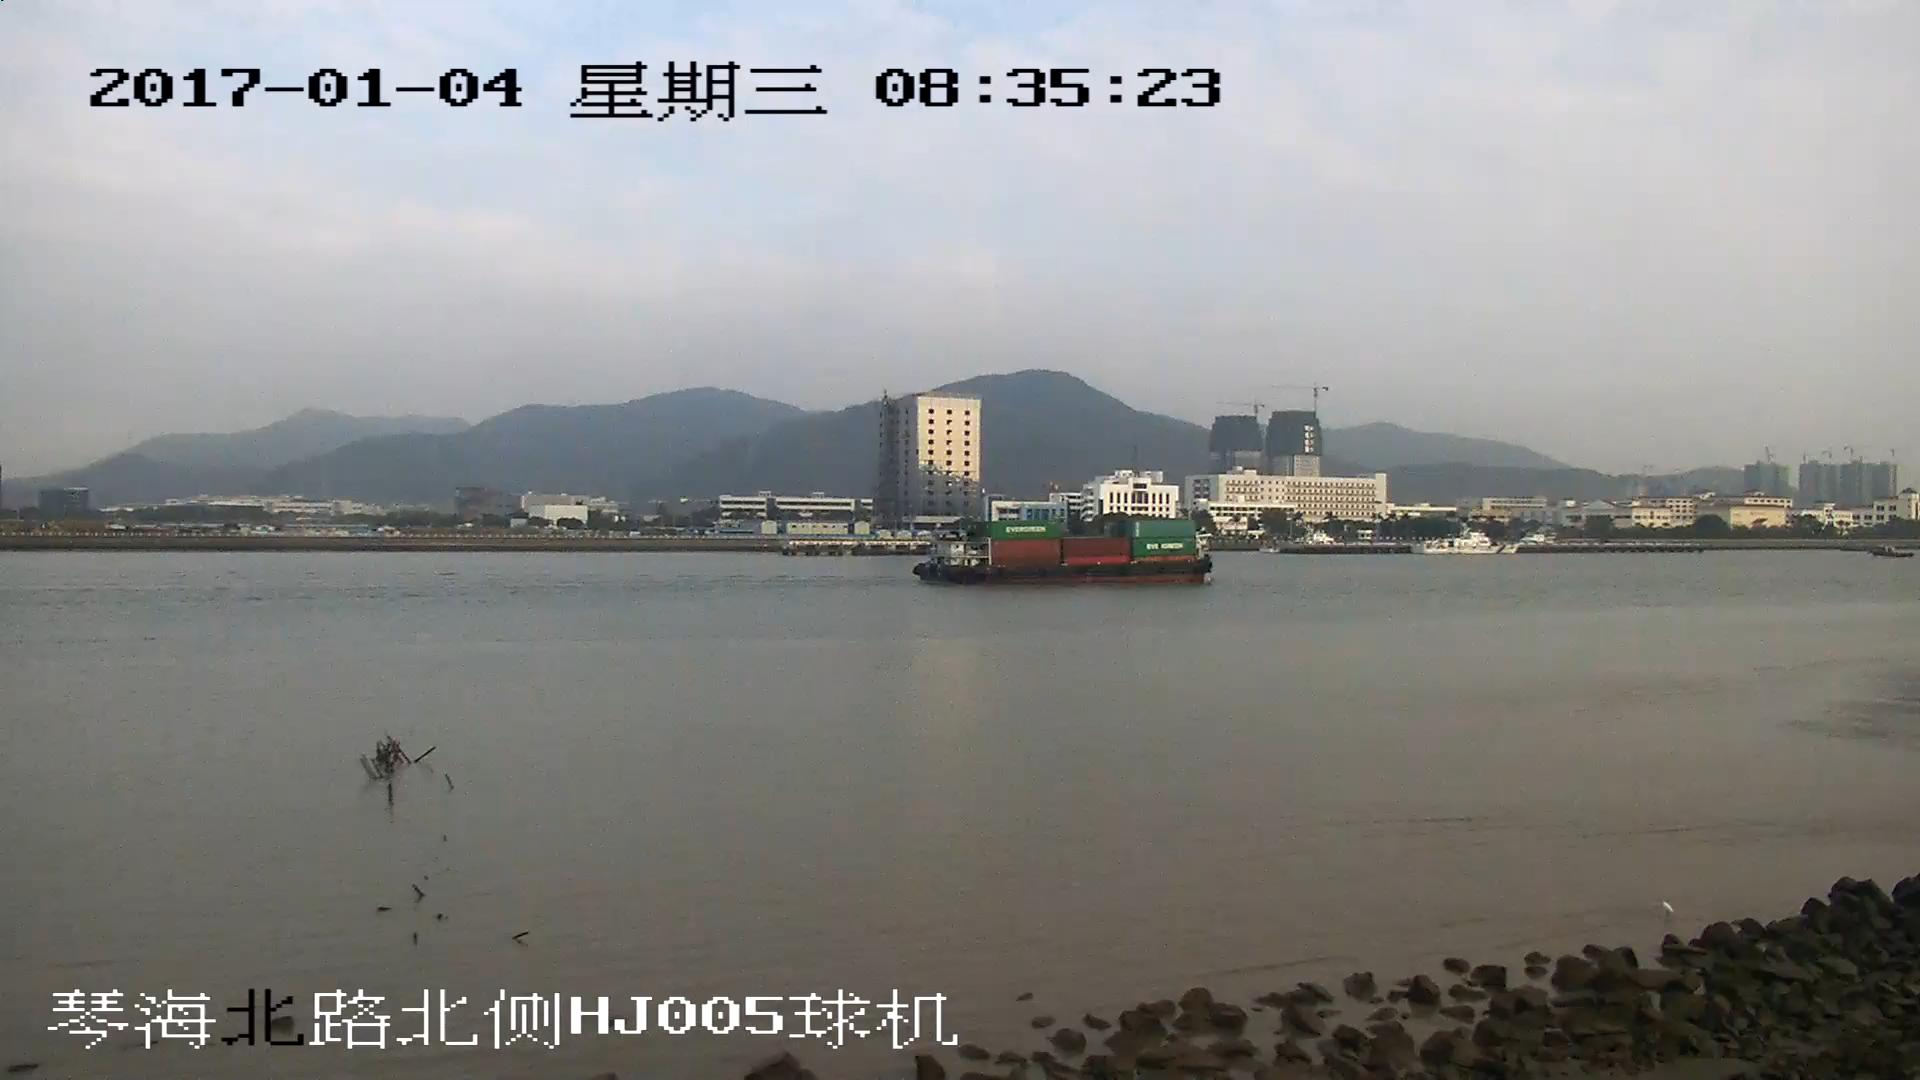container ship: (916, 522, 1210, 584)
